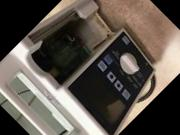plumxl1: (3, 4, 159, 133)
